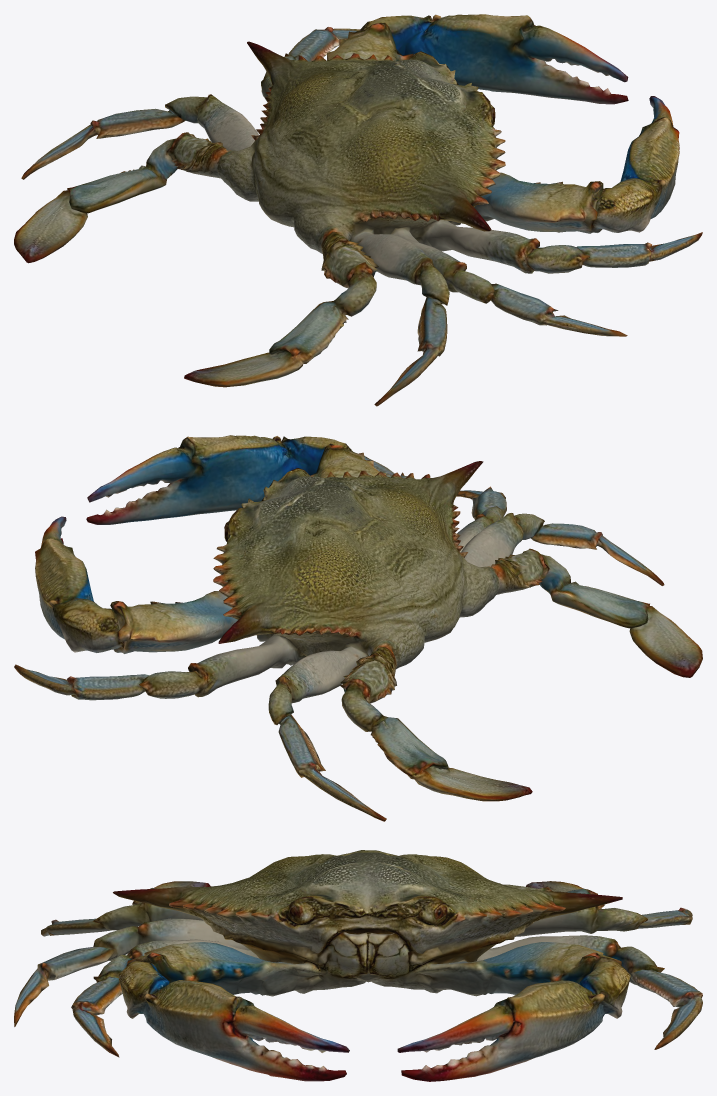
Rendered from crab.glb.
The picture shows the model from 3 angles, top to bottom: view 1: azimuth 30°, elevation 25°; view 2: azimuth 150°, elevation 25°; view 3: azimuth 270°, elevation 25°; orthographic projection.
Parts seen in each view (by area): view 1: tripo_node_66b62e2b-970e-4ffd-ac22-a2c9f504c9d5; view 2: tripo_node_66b62e2b-970e-4ffd-ac22-a2c9f504c9d5; view 3: tripo_node_66b62e2b-970e-4ffd-ac22-a2c9f504c9d5.
Part boxes in pixels (bbox=[...]): tripo_node_66b62e2b-970e-4ffd-ac22-a2c9f504c9d5: bbox=[14, 14, 702, 406]; tripo_node_66b62e2b-970e-4ffd-ac22-a2c9f504c9d5: bbox=[14, 435, 702, 821]; tripo_node_66b62e2b-970e-4ffd-ac22-a2c9f504c9d5: bbox=[14, 850, 702, 1081].
Bounding box in the file's own units: 0.9122 × 0.2824 × 1.
Materials: 1 (1 with a texture image).
